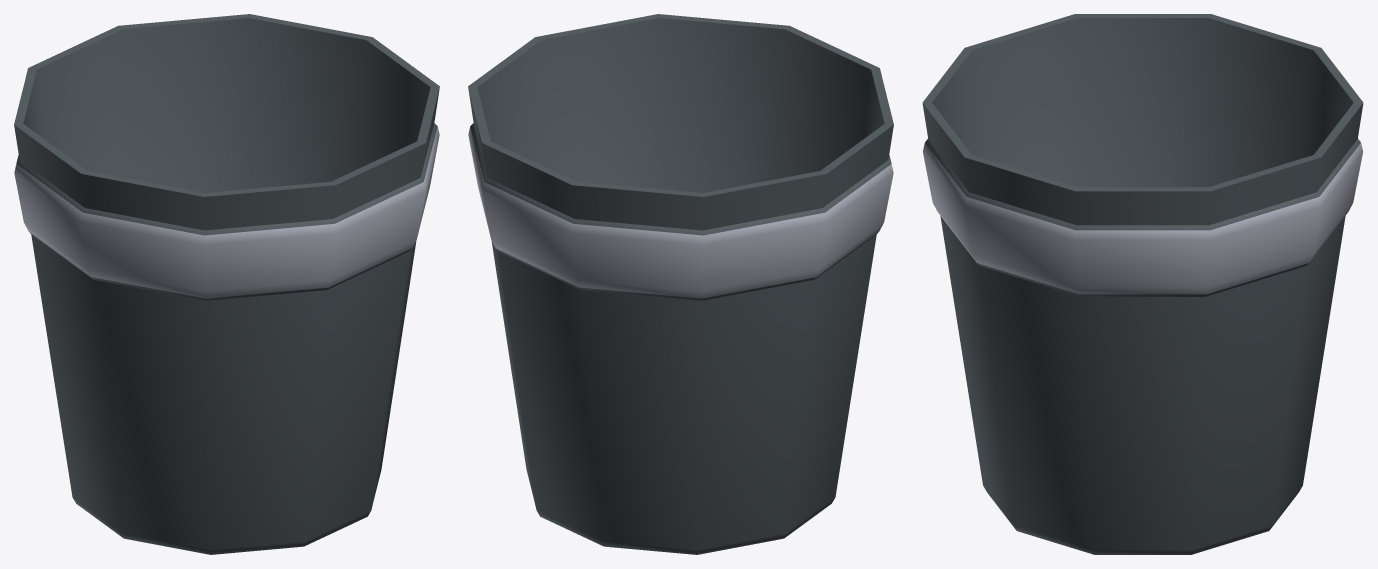
The model's file is SM_small_bucket.fbx.
The picture shows the model from 3 angles, left to right: view 1: azimuth 30°, elevation 25°; view 2: azimuth 150°, elevation 25°; view 3: azimuth 270°, elevation 25°; orthographic projection.
Visible parts, largest first — view 1: small_bucket; view 2: small_bucket; view 3: small_bucket.
Boxes of the visible parts, box(x1,y1,x2,y2) form: small_bucket: box(14, 14, 439, 554); small_bucket: box(468, 14, 893, 554); small_bucket: box(922, 14, 1363, 554).
Bounding box in the file's own units: 24.26 × 25.04 × 25.51.
